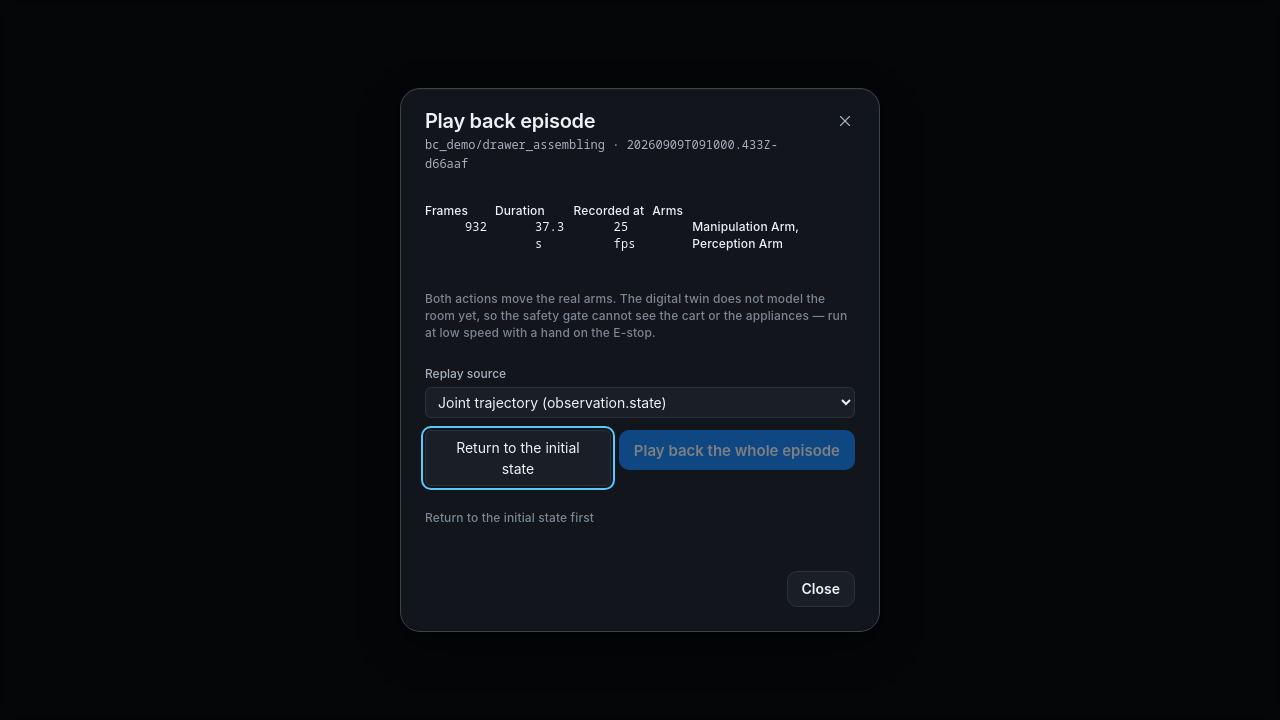
PlaybackDialog › choosing the delta EE actions sends source 'delta_ee' and names it in the result
The image size is (1280, 720).
Expected: the element with test id "playback-meta" is shown, [425, 200, 855, 255]
Click the button with test id "playback-goto-initial" at (518, 458), box [425, 430, 611, 486]
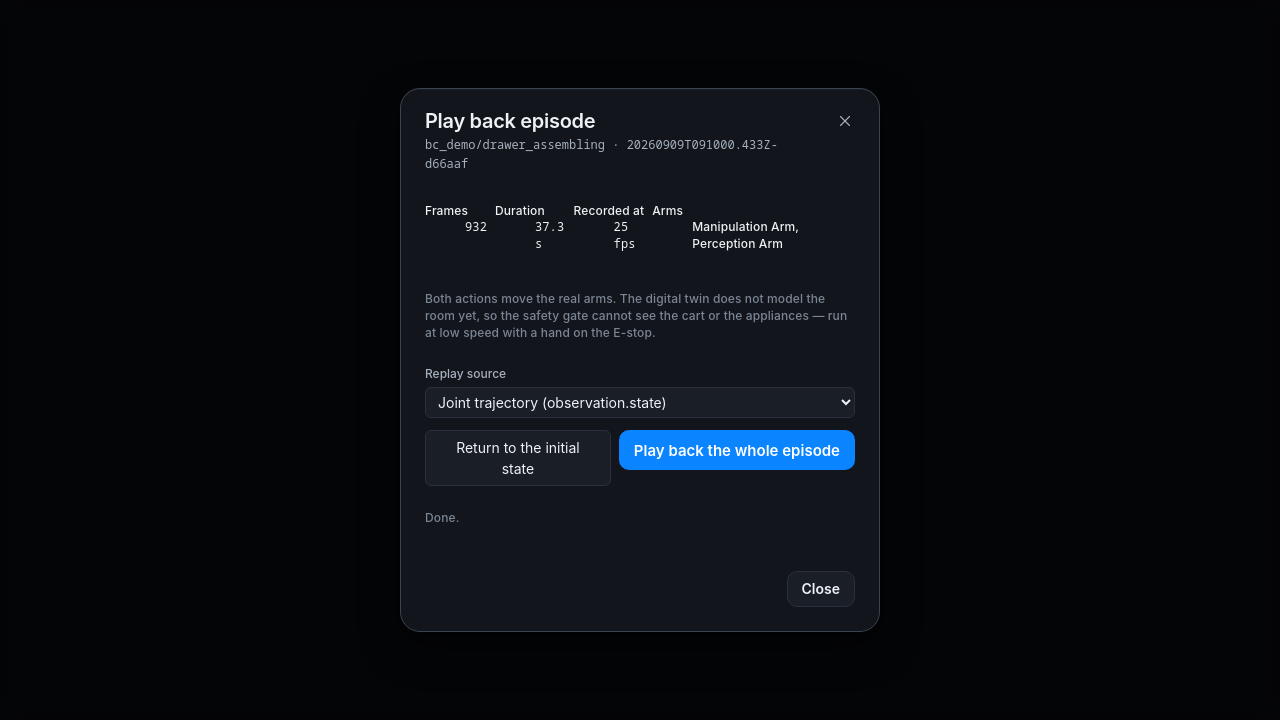
Expected: the button with test id "playback-play" is enabled, [619, 430, 855, 470]
Select "Delta EE actions (action)" in the dropdown with test id "playback-source" at (640, 403), box [425, 387, 855, 418]
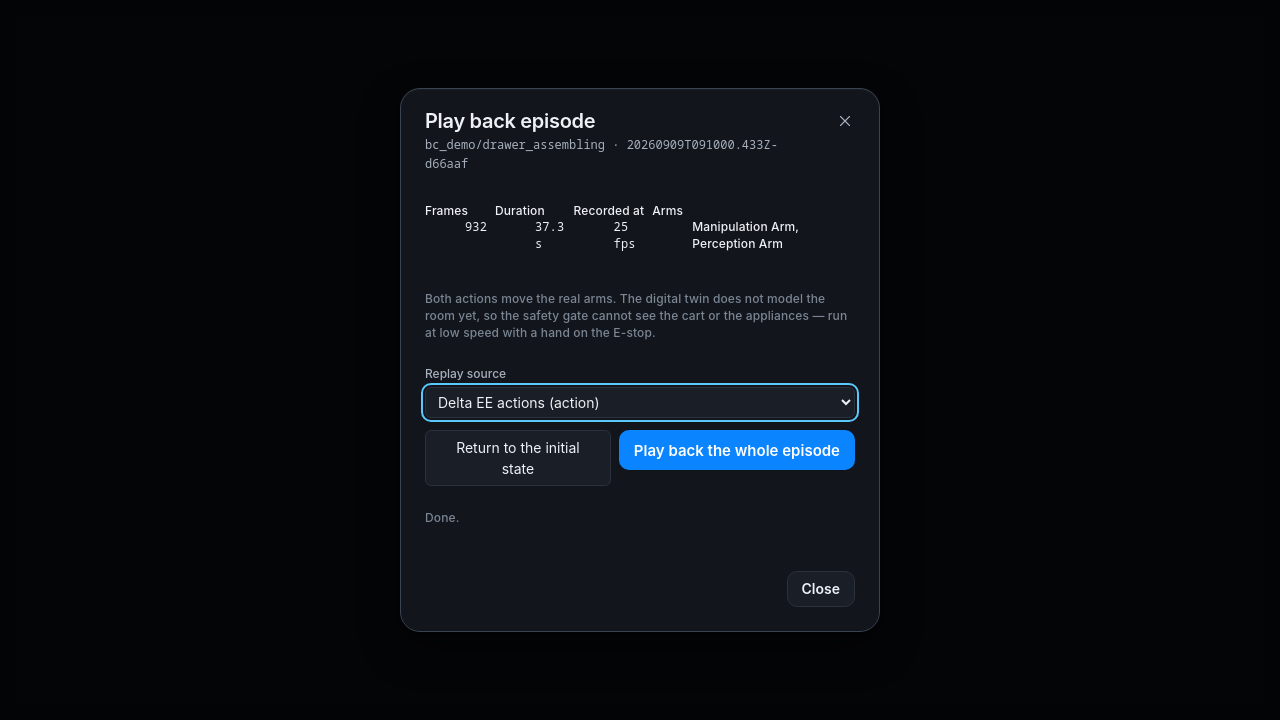
Click the button with test id "playback-play" at (737, 450), box [619, 430, 855, 470]
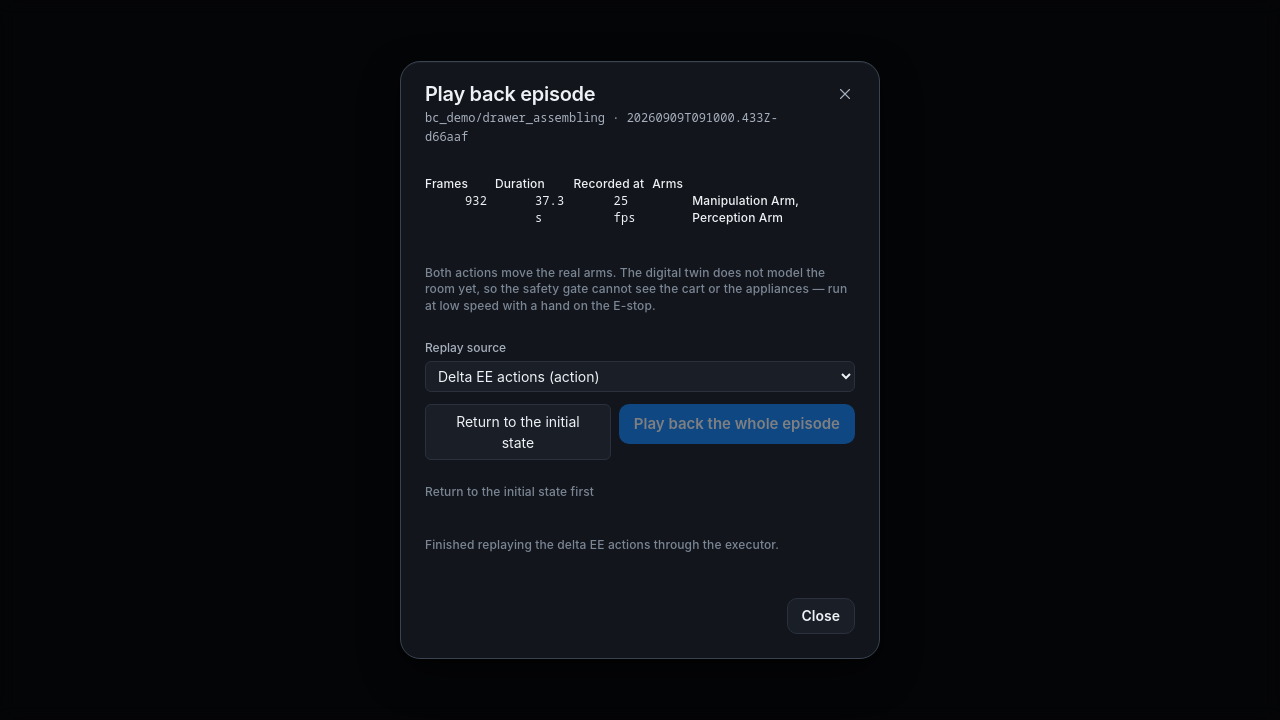
Expected: the message with test id "playback-outcome" reads "Finished replaying the delta EE actions through the executor.", [425, 537, 779, 552]
